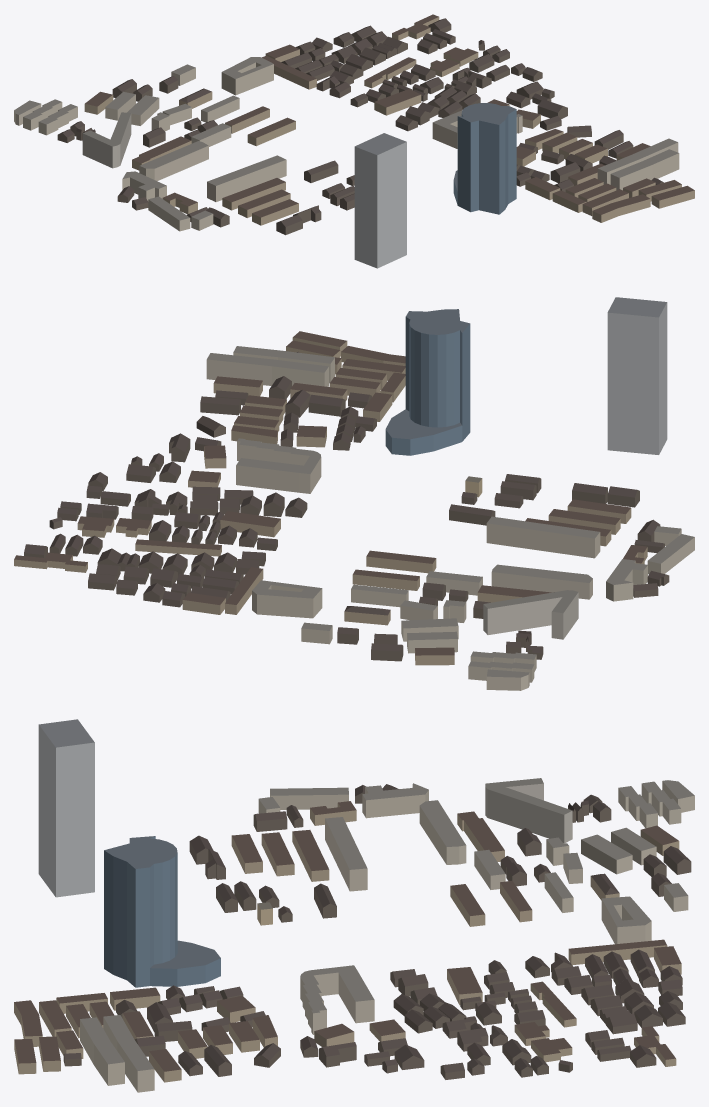
File: tile_1_5.glb
The picture shows the model from 3 angles, top to bottom: view 1: azimuth 30°, elevation 25°; view 2: azimuth 150°, elevation 25°; view 3: azimuth 270°, elevation 25°; orthographic projection. The views are drawn at different scales.
Parts seen in each view (by area): view 1: HP-w1201934521, HP-w488968699, HP-w859457388, HP-w488956322, HP-w936786012, HP-w859457410, HP-r16247354, HP-w859457411, HP-w859457400, HP-w859457389, HP-w859457392, HP-w488956321 (+28 smaller); view 2: HP-w488968699, HP-w1201934521, HP-w859457392, HP-w488956322, HP-w859457388, HP-w859457411, HP-r16247354, HP-w936786012, HP-w488956321, HP-w1202493218, HP-w859457410, HP-w1202494172 (+32 smaller); view 3: HP-w488968699, HP-w1201934521, HP-w488956322, HP-w859457392, HP-r16247354, HP-w859457388, HP-w859457411, HP-w936786012, HP-w859457410, HP-w488956321, HP-w1202494172, HP-w693448964 (+41 smaller).
Boxes of the visible parts, bbox=[...] form: HP-w1201934521: bbox=[354, 133, 406, 268]; HP-w488968699: bbox=[453, 103, 516, 214]; HP-w859457388: bbox=[207, 155, 286, 201]; HP-w488956322: bbox=[82, 112, 131, 168]; HP-w936786012: bbox=[139, 141, 208, 181]; HP-w859457410: bbox=[610, 149, 679, 190]; HP-r16247354: bbox=[221, 57, 273, 95]; HP-w859457411: bbox=[597, 138, 678, 184]; HP-w859457400: bbox=[592, 194, 650, 222]; HP-w859457389: bbox=[222, 178, 285, 210]; HP-w859457392: bbox=[432, 110, 522, 148]; HP-w488956321: bbox=[122, 171, 166, 201]; HP-w488968699: bbox=[385, 309, 470, 455]; HP-w1201934521: bbox=[607, 297, 667, 454]; HP-w859457392: bbox=[236, 438, 321, 493]; HP-w488956322: bbox=[483, 590, 578, 639]; HP-w859457388: bbox=[486, 516, 600, 558]; HP-w859457411: bbox=[206, 353, 328, 386]; HP-r16247354: bbox=[252, 580, 322, 618]; HP-w936786012: bbox=[491, 564, 592, 599]; HP-w488956321: bbox=[606, 559, 647, 601]; HP-w1202493218: bbox=[366, 550, 436, 573]; HP-w859457410: bbox=[233, 346, 334, 383]; HP-w1202494172: bbox=[647, 534, 694, 574]; HP-w488968699: bbox=[104, 836, 220, 987]; HP-w1201934521: bbox=[38, 719, 94, 897]; HP-w488956322: bbox=[485, 778, 572, 843]; HP-w859457392: bbox=[300, 965, 374, 1034]; HP-r16247354: bbox=[601, 896, 651, 944]; HP-w859457388: bbox=[325, 817, 367, 891]; HP-w859457411: bbox=[103, 1015, 154, 1092]; HP-w936786012: bbox=[419, 800, 466, 864]; HP-w859457410: bbox=[80, 1017, 124, 1085]; HP-w488956321: bbox=[362, 783, 428, 818]; HP-w1202494172: bbox=[270, 787, 348, 809]; HP-w693448964: bbox=[581, 834, 632, 874].
Size of the model in its own units: 536 by 125 by 515.
